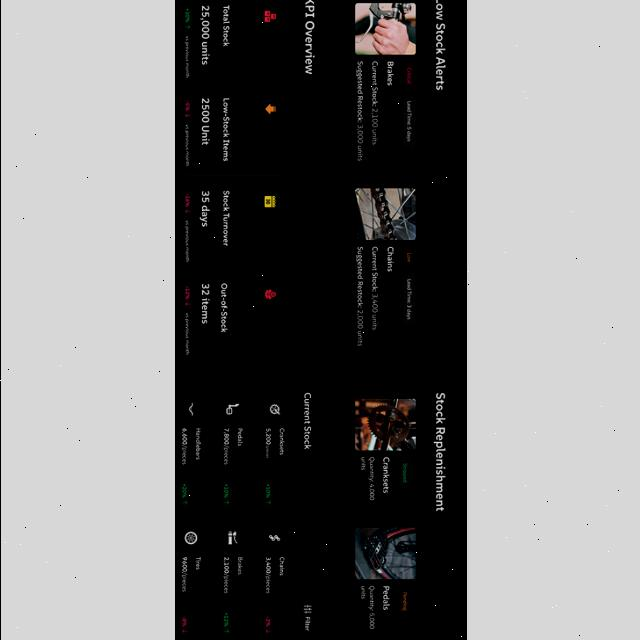QLabel: (433, 392, 445, 512), (434, 0, 446, 90), (302, 0, 316, 74), (370, 61, 378, 145), (356, 246, 362, 348), (356, 61, 362, 161), (221, 97, 229, 161), (370, 246, 376, 330), (302, 392, 310, 450), (220, 4, 230, 48), (198, 191, 210, 227), (200, 98, 208, 146), (220, 283, 227, 333), (222, 190, 228, 246), (404, 278, 412, 320), (200, 284, 208, 324), (200, 5, 208, 39), (367, 457, 373, 501), (367, 586, 373, 630), (180, 428, 186, 464), (180, 557, 186, 593), (222, 557, 228, 593), (264, 558, 270, 594), (222, 428, 228, 464), (382, 457, 388, 493), (385, 246, 393, 272), (200, 42, 208, 66), (194, 428, 200, 460), (264, 428, 270, 458), (184, 36, 188, 78), (184, 125, 188, 167), (184, 220, 188, 262), (406, 100, 410, 142), (278, 428, 284, 454), (386, 60, 392, 86), (382, 586, 388, 610), (185, 313, 188, 355), (236, 556, 242, 576), (278, 556, 284, 576), (236, 428, 242, 447), (304, 616, 310, 632), (183, 193, 189, 207), (180, 484, 186, 498), (222, 484, 228, 498), (264, 484, 270, 498), (222, 612, 228, 626), (402, 592, 406, 612), (402, 463, 406, 482), (194, 558, 200, 570), (406, 68, 410, 84), (264, 616, 270, 626), (180, 617, 186, 627), (360, 457, 364, 471), (360, 586, 364, 600), (184, 9, 188, 23), (184, 285, 188, 299), (184, 100, 188, 112), (406, 252, 410, 262)
VBtn: (297, 590, 317, 640)
VCard: (174, 1, 328, 373), (337, 0, 459, 372), (174, 380, 328, 640), (337, 380, 459, 640), (346, 182, 422, 362), (348, 0, 422, 176), (174, 180, 290, 270), (174, 89, 290, 177), (174, 274, 290, 362), (174, 0, 290, 84), (348, 392, 422, 516), (348, 520, 422, 640), (255, 392, 291, 516), (214, 392, 250, 516), (214, 520, 250, 640), (256, 520, 292, 640), (174, 391, 208, 515), (174, 520, 208, 640)
VChip: (401, 94, 415, 148), (402, 274, 414, 326), (398, 458, 412, 488), (402, 62, 416, 90), (398, 586, 410, 616), (182, 190, 192, 218), (178, 480, 188, 508), (220, 480, 230, 508), (262, 480, 272, 508), (220, 609, 230, 637), (182, 5, 192, 32), (403, 246, 415, 268), (182, 284, 192, 310), (181, 98, 191, 122), (262, 613, 272, 637), (178, 613, 188, 637)
VIcon: (224, 403, 238, 415), (184, 532, 196, 544), (263, 196, 275, 208), (263, 10, 275, 22), (268, 405, 280, 415), (226, 532, 236, 544), (266, 534, 280, 542), (302, 604, 312, 614), (264, 289, 274, 299), (264, 104, 274, 114), (188, 402, 192, 416), (184, 112, 188, 118), (183, 209, 189, 213), (222, 500, 228, 504), (184, 25, 188, 29), (184, 302, 188, 306), (182, 501, 186, 504), (180, 630, 186, 632), (222, 630, 228, 632)
VImg: (354, 3, 416, 55), (354, 398, 416, 450), (354, 528, 416, 580), (354, 188, 414, 240)
